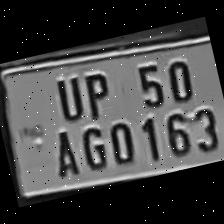0: (158, 54, 198, 107), (101, 116, 139, 168)
1: (130, 112, 166, 165)
3: (184, 100, 224, 155)
5: (128, 57, 168, 112)
6: (155, 106, 194, 160)
A: (43, 125, 82, 182)
G: (72, 120, 110, 174)
P: (76, 64, 116, 119)
U: (46, 70, 87, 125)
